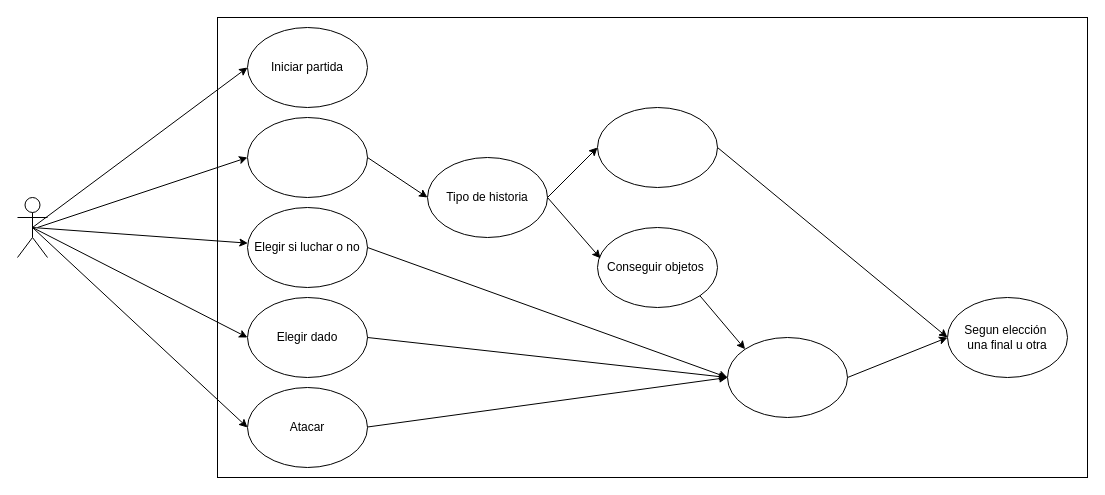
Some shapes in this 1105 by 495 pixel diagram are drawn without their labels. Each missing label, with the centre of its shape:
"Continuación de historia" belongs at point 787,377.
"Efecctos del tiempo" belongs at point 657,147.
"Elegir personaje" belongs at point 307,157.
"User" belongs at point 32,227.
